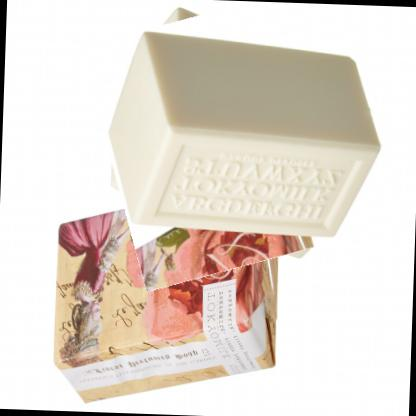soap: (89, 0, 399, 284)
